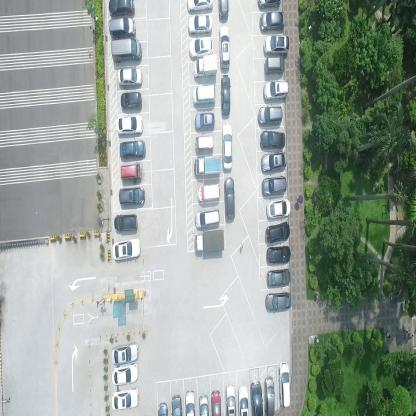car: (194, 229, 225, 256), (111, 236, 141, 262), (111, 38, 141, 63), (110, 344, 138, 369), (111, 361, 139, 386), (111, 386, 139, 411), (260, 150, 287, 174), (114, 114, 143, 136), (278, 360, 291, 408), (193, 155, 220, 178), (264, 292, 292, 314), (193, 54, 218, 78), (266, 221, 291, 245), (263, 78, 289, 101), (266, 197, 292, 220), (260, 9, 286, 32), (117, 187, 145, 208), (108, 16, 136, 37), (266, 267, 291, 290), (188, 36, 214, 58), (264, 34, 290, 56), (194, 208, 220, 230), (257, 104, 283, 126), (262, 175, 287, 197), (119, 140, 146, 160), (222, 123, 233, 172), (250, 378, 264, 416), (266, 246, 292, 266), (259, 131, 286, 150), (188, 14, 212, 35), (192, 85, 216, 106), (196, 184, 220, 205), (224, 178, 235, 223), (219, 25, 230, 69), (118, 66, 142, 86), (108, 0, 134, 18), (119, 163, 142, 183), (113, 213, 137, 232), (264, 375, 275, 415), (265, 56, 286, 76), (120, 92, 142, 110), (224, 382, 236, 415), (195, 112, 215, 131), (221, 74, 230, 116), (238, 384, 249, 416), (195, 135, 214, 153), (186, 0, 214, 12), (210, 388, 222, 415), (185, 388, 196, 415), (170, 394, 183, 416), (217, 0, 230, 20), (199, 393, 209, 415), (257, 0, 281, 8)
